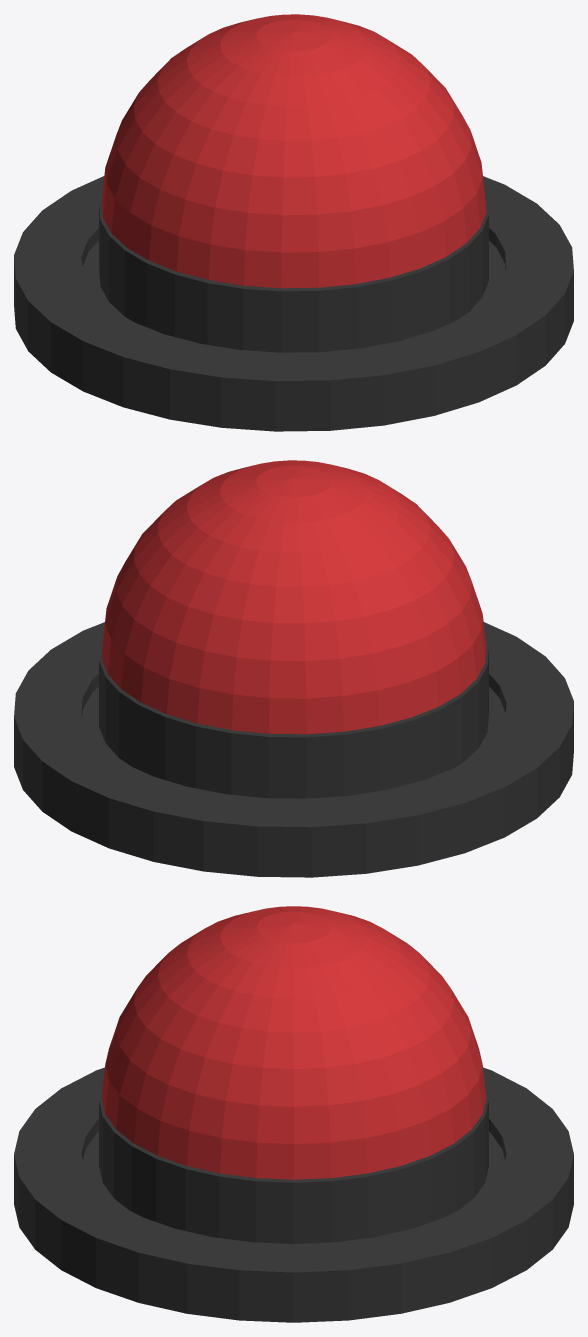
File: ButtonRedOff.fbx
3 views of the same model, one above another, from view 1: azimuth 30°, elevation 25°; view 2: azimuth 150°, elevation 25°; view 3: azimuth 270°, elevation 25° (orthographic).
Parts seen in each view (by area): view 1: ButtonRed; view 2: ButtonRed; view 3: ButtonRed.
Boxes of the visible parts, box(x1,y1,x2,y2) form: ButtonRed: box(14, 14, 573, 431); ButtonRed: box(14, 460, 573, 877); ButtonRed: box(14, 906, 573, 1322).
Bounding box in the file's own units: 200 × 111 × 200.
